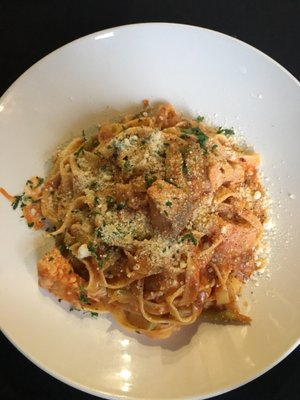sushi: (0, 20, 299, 386)
